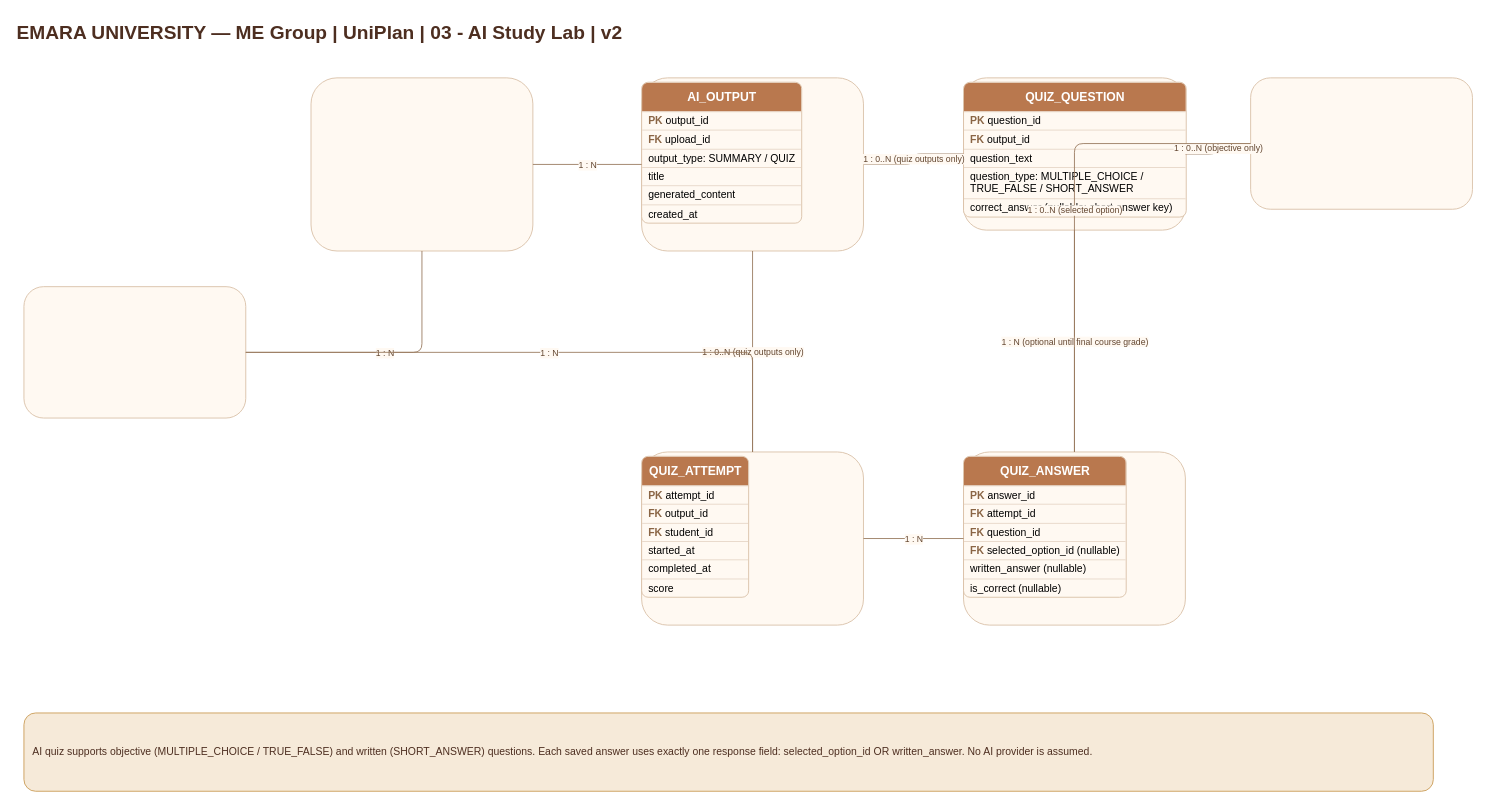
The diagram is 1488 pixels wide and 806 high, and some of its shapes have lost their labels. Each missing label, with the box of its shape:
QUIZ_OPTION PK option_id FK question_id option_text is_correct: 0 / 1: (1250, 77, 1472, 209)
STUDENT_PROFILE PK, FK user_id UQ student_code program academic_level: (23, 286, 246, 418)
STUDY_UPLOAD PK upload_id FK student_id title file_path file_type uploaded_at: (310, 77, 533, 251)
